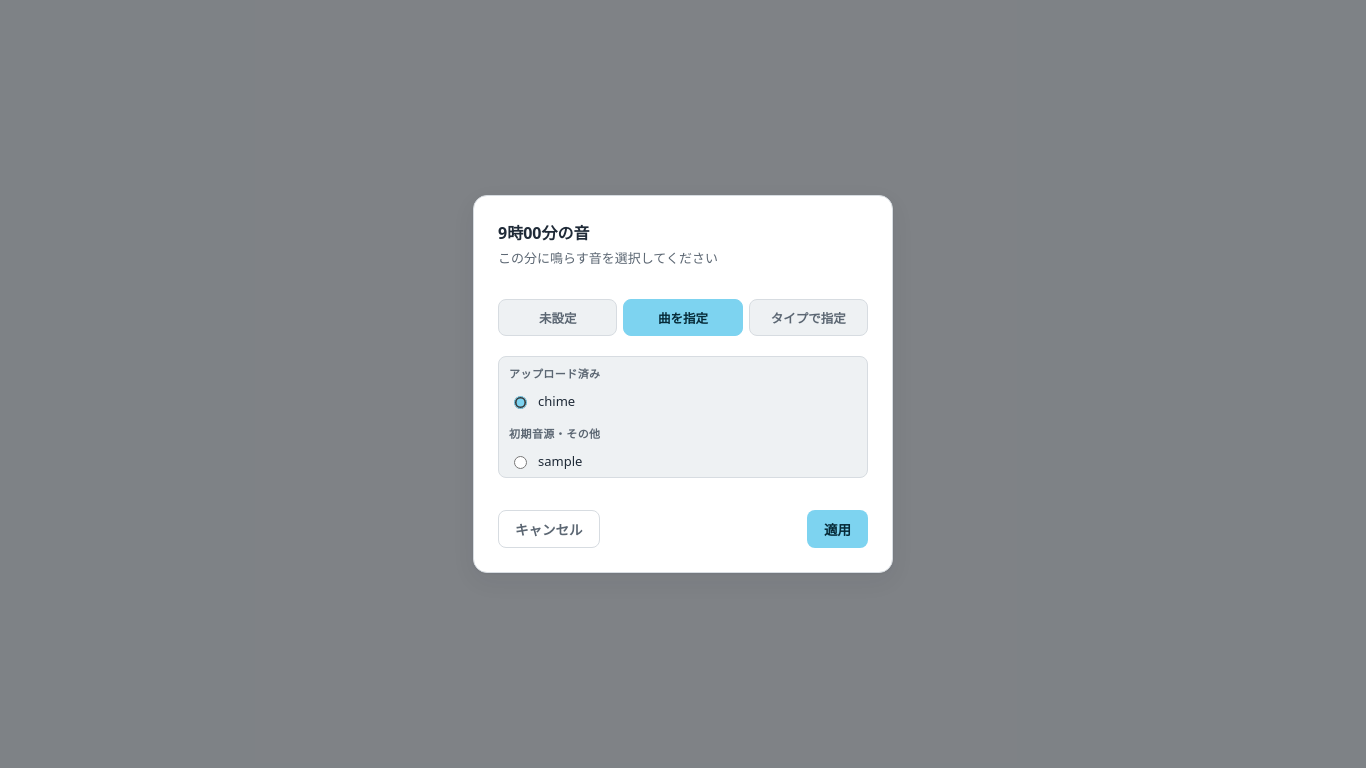
Test case: SoundAssignDialog › 別グループの曲を選ぶと元の選択が外れる(単一選択)
Expected: the radio button labelled "chime" is checked, [514,396,527,409]
Click the radio button labelled "sample" at (520, 462), box [514,456,527,469]
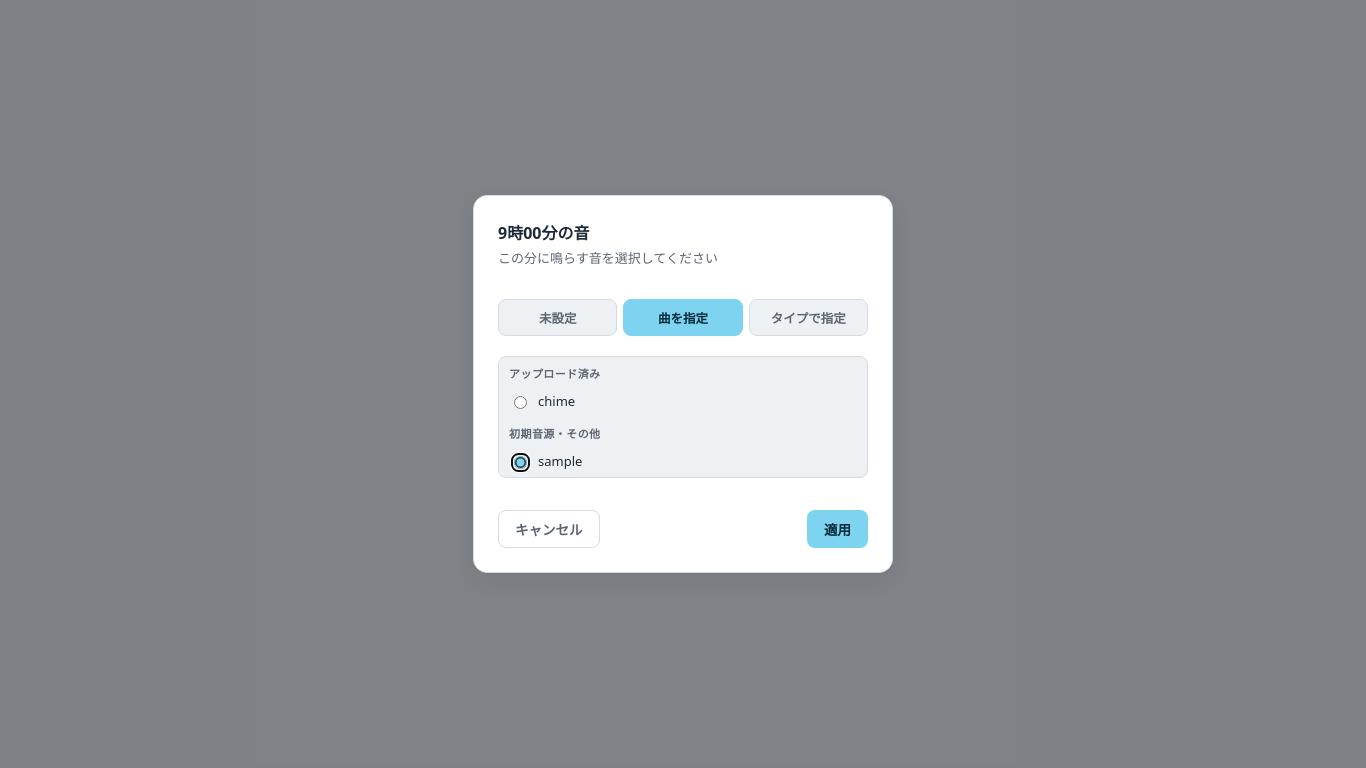
Result: the radio button labelled "sample" is checked at [514,456,527,469]
Result: the radio button labelled "chime" is not checked at [514,396,527,409]
